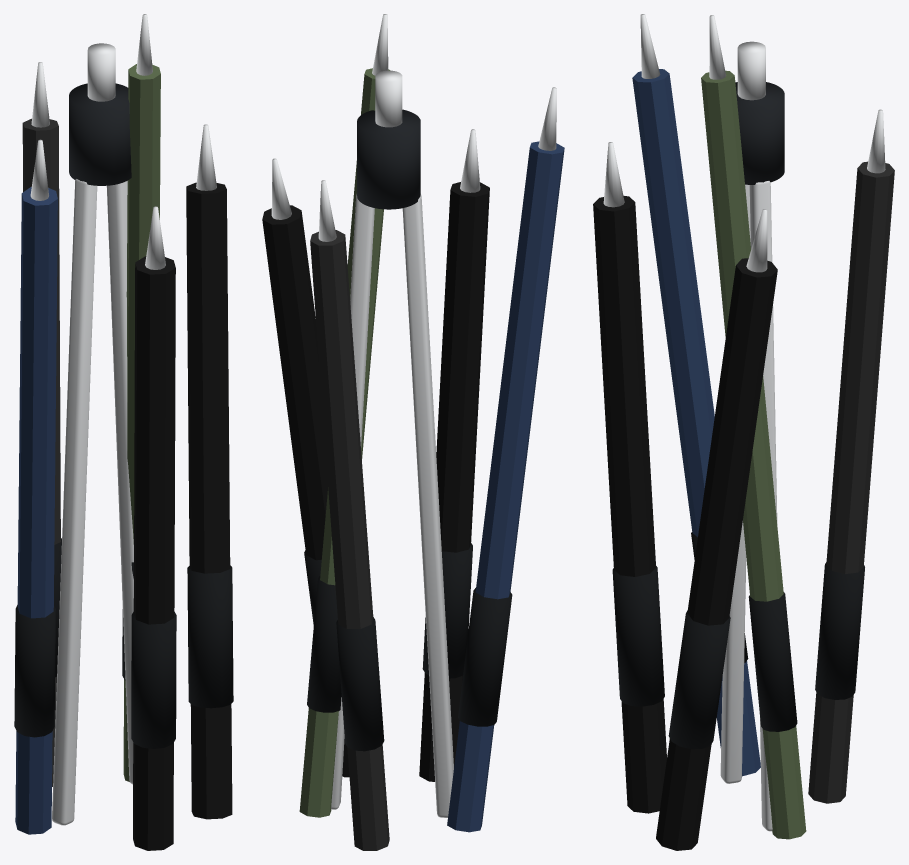
Rendered from herodesk-arch-cup-fill.glb.
The picture shows the model from 3 angles, left to right: view 1: azimuth 30°, elevation 25°; view 2: azimuth 150°, elevation 25°; view 3: azimuth 270°, elevation 25°; orthographic projection. The views are drawn at different scales.
Visible parts, largest first — view 1: herodesk-arch-cup-fill · mesh; view 2: herodesk-arch-cup-fill · mesh; view 3: herodesk-arch-cup-fill · mesh.
Boxes of the visible parts, left/top/right/bottom form: herodesk-arch-cup-fill · mesh: left=14, top=14, right=233, bottom=850; herodesk-arch-cup-fill · mesh: left=262, top=14, right=564, bottom=850; herodesk-arch-cup-fill · mesh: left=593, top=14, right=894, bottom=850.
Bounding box in the file's own units: 0.0627 × 0.1887 × 0.0643.
